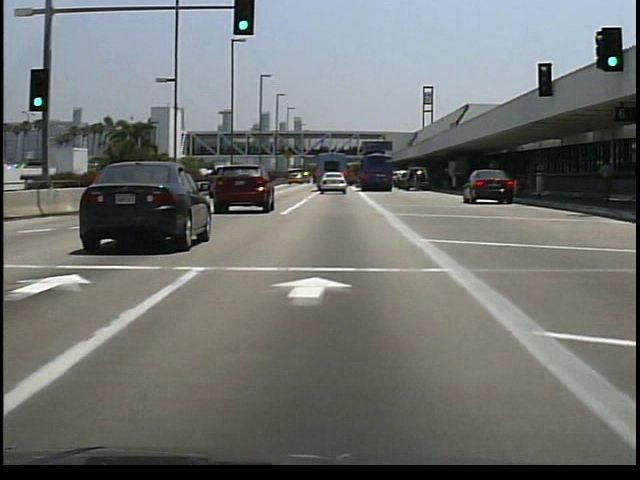person: (594, 158, 615, 210)
